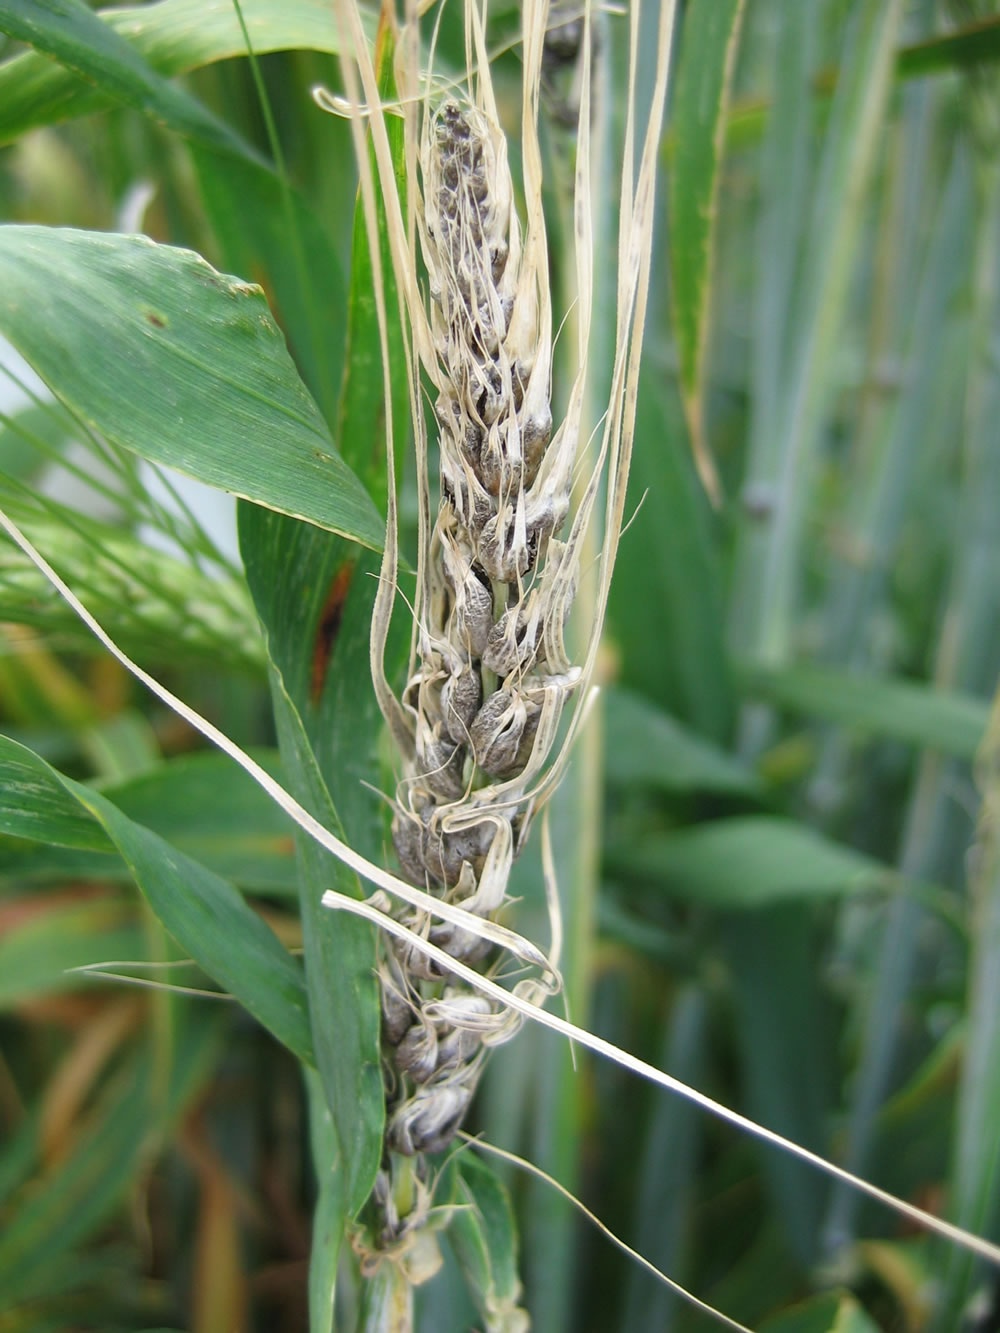Wheat Loose Smut: (350, 93, 637, 1220)
